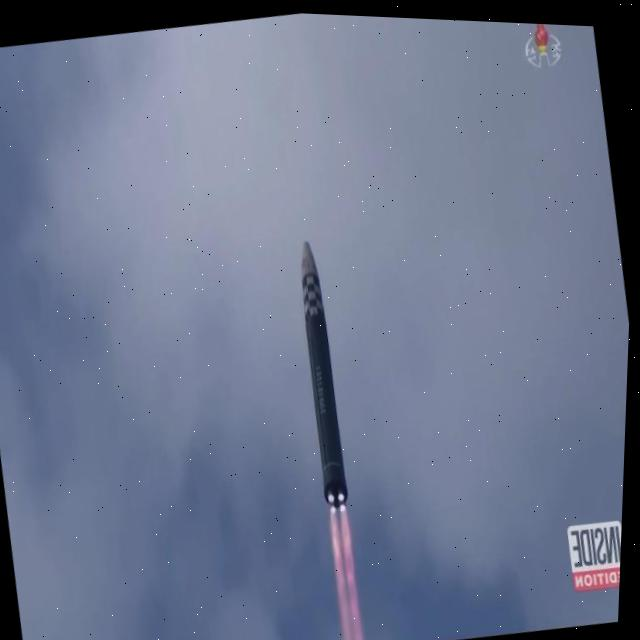missile: (284, 234, 362, 504)
